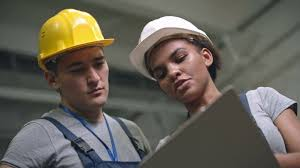Person_wearing_helmet: (128, 7, 213, 86), (32, 5, 119, 82)
